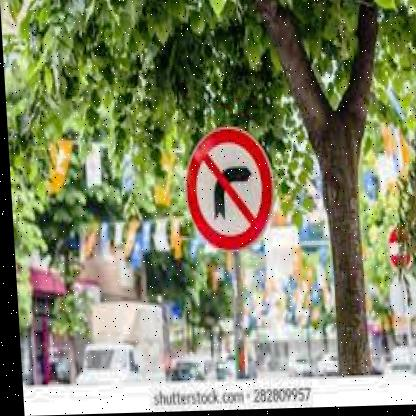No right turn: (178, 128, 274, 250)
